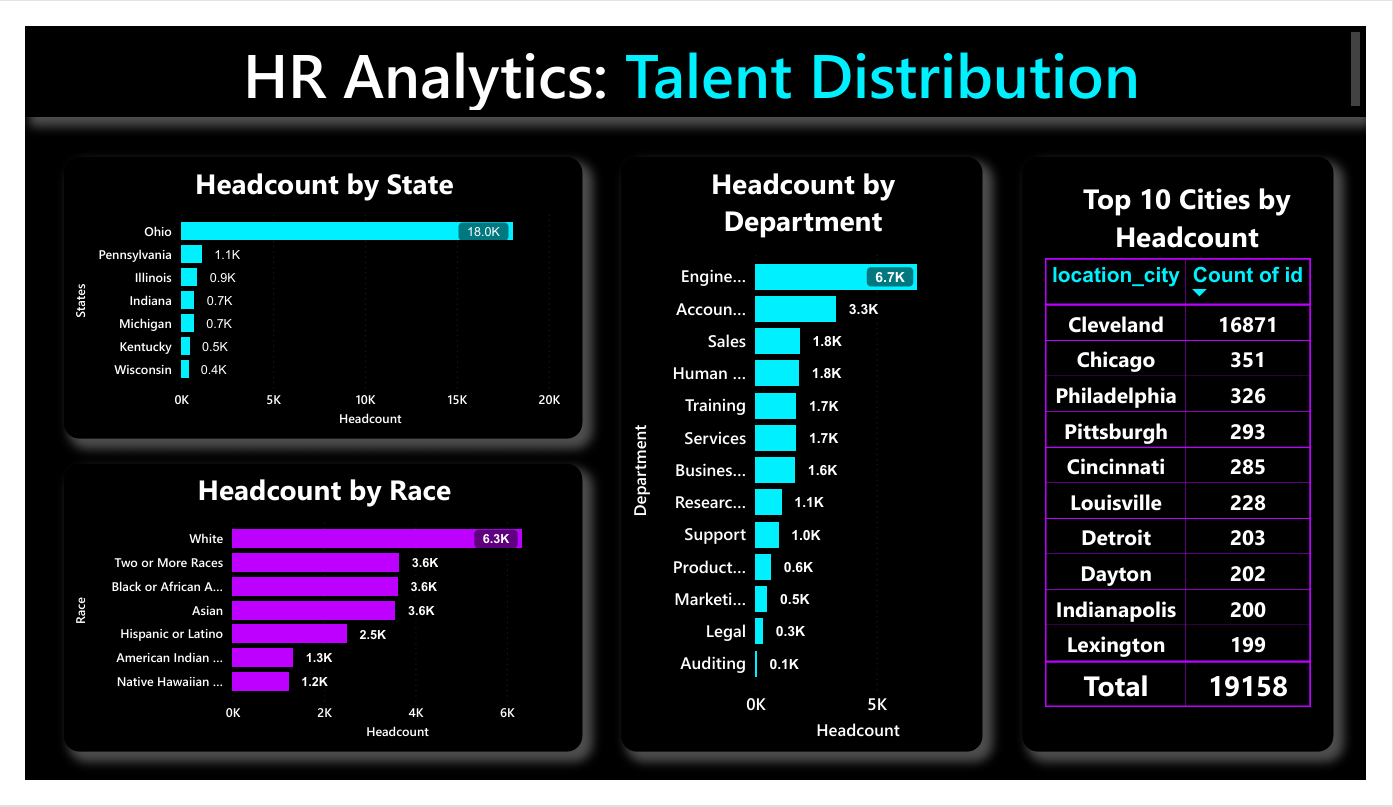

Layout of this report page (visuals, bound fields, positions):
{"tool":"powerbi","page":{"name":" Workforce Composition","canvas":[1280,720],"ordinal":1},"visuals":[{"type":"clusteredBarChart","title":"Headcount by Department","fields":{"Category":["Cleaned Data.department"],"Y":["CountNonNull(Cleaned Data.id)"]},"box":[569.3,125.2,344.8,567.7],"z":0},{"type":"clusteredBarChart","title":"Headcount by State","fields":{"Category":["Cleaned Data.location_state"],"Y":["CountNonNull(Cleaned Data.id)"]},"box":[37.4,125.2,494.5,268.4],"z":1000},{"type":"clusteredBarChart","title":"Headcount by Race","fields":{"Y":["CountNonNull(Cleaned Data.id)"],"Category":["Cleaned Data.race"]},"box":[37.4,418,494.5,274.9],"z":2000},{"type":"tableEx","title":"Top 10 Cities by Headcount","fields":{"Values":["Cleaned Data.location_city","Cleaned Data.id"]},"box":[951.5,125.2,297.7,567.7],"z":3000},{"type":"textbox","box":[0,0,1280.1,86.2],"z":4000}]}

Visuals, with their boxes in screenshot pixels (x1, y1, x2, y2), scaled from the page's 1280x720 canvas onto the 1393x807 screenshot:
"Headcount by Department" clusteredBarChart: l=620, t=140, r=995, b=777
"Headcount by State" clusteredBarChart: l=41, t=140, r=579, b=441
"Headcount by Race" clusteredBarChart: l=41, t=469, r=579, b=777
"Top 10 Cities by Headcount" tableEx: l=1035, t=140, r=1359, b=777
textbox: l=0, t=0, r=1392, b=97
